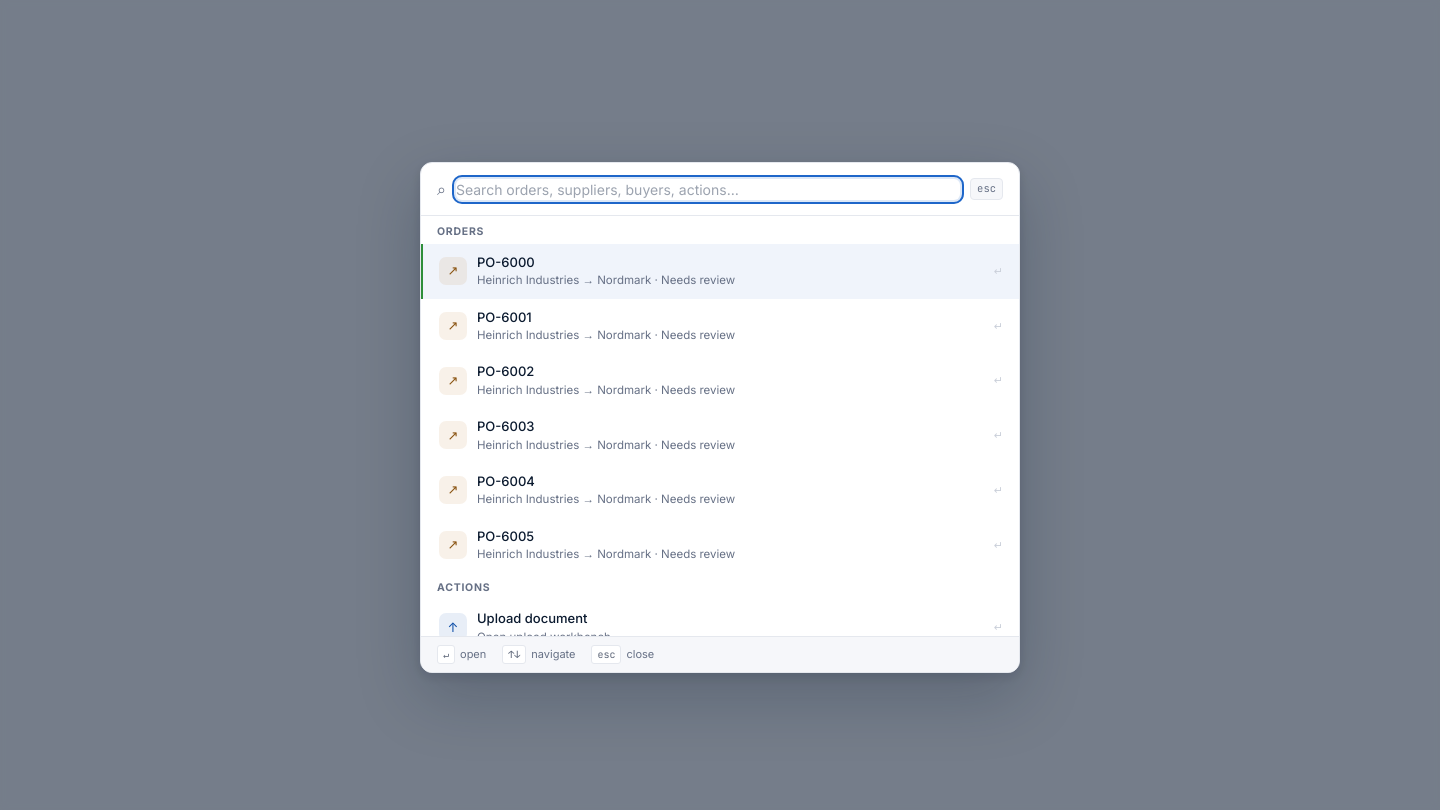
Test: command palette search — never denies what the server returned › keeps a row whose term matched only as a SQL wildcard
The image size is (1440, 810).
In the dropdown: point(708, 189) [456,178,960,200], type "PO_6012"
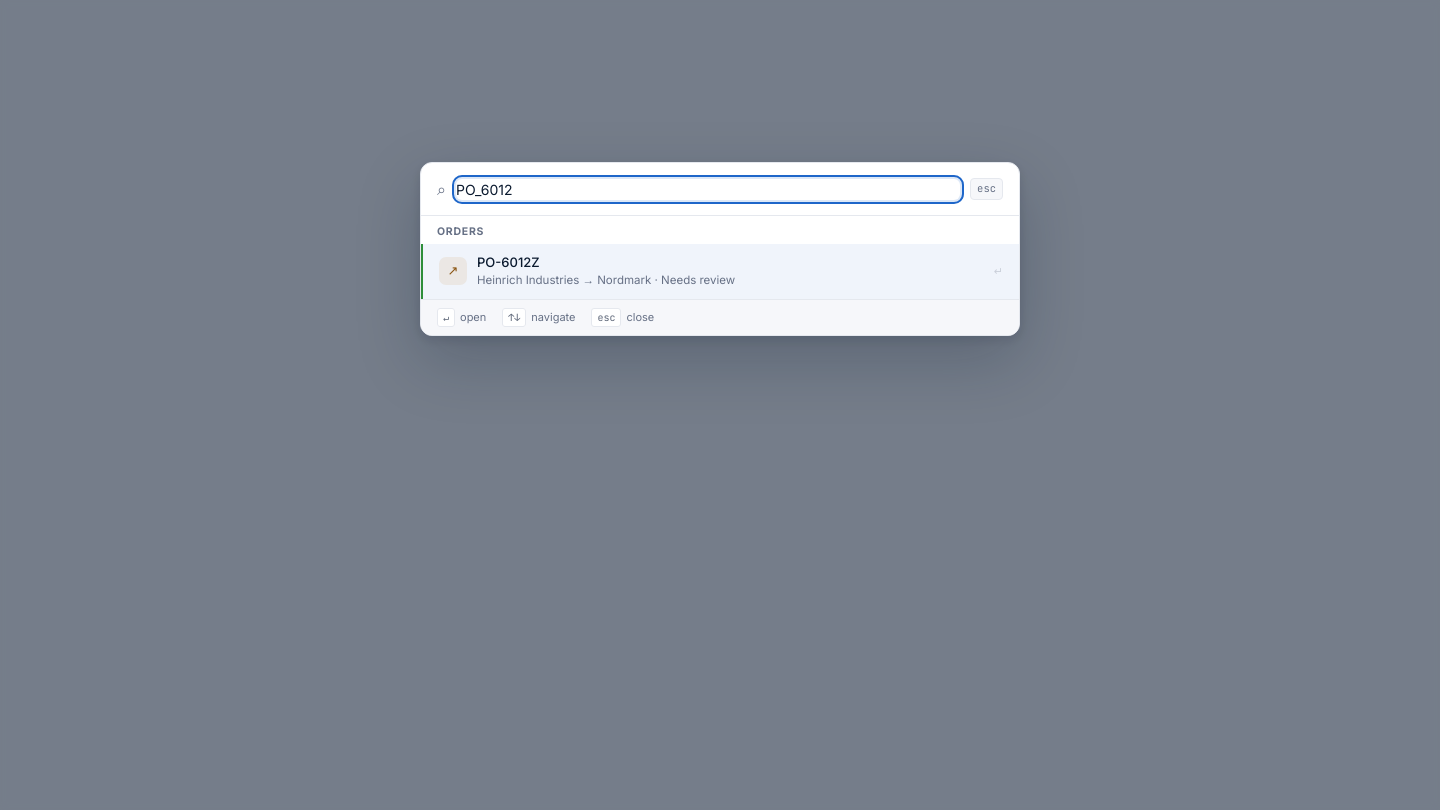
Result: the text "PO-6012Z" is shown at [477,254,540,270]
